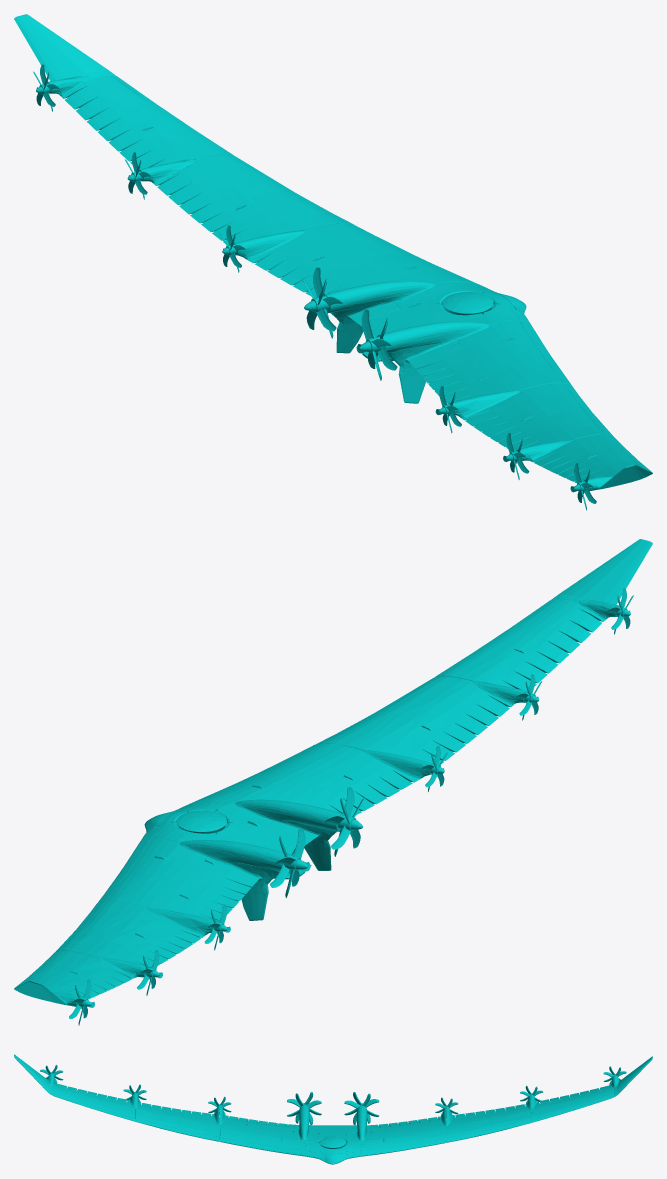
Rendered from ArsenalBRD2.glb.
3 renders of one model, top to bottom at view 1: azimuth 30°, elevation 25°; view 2: azimuth 150°, elevation 25°; view 3: azimuth 270°, elevation 25°, orthographic. The views are drawn at different scales.
Parts seen in each view (by area): view 1: Arsenal_Bird_1_1000; view 2: Arsenal_Bird_1_1000; view 3: Arsenal_Bird_1_1000.
Part boxes in pixels (<box>): Arsenal_Bird_1_1000: <box>14,14,652,510</box>; Arsenal_Bird_1_1000: <box>14,539,652,1025</box>; Arsenal_Bird_1_1000: <box>14,1054,652,1164</box>.
Bounding box in the file's own units: 229 × 150 × 1100.
